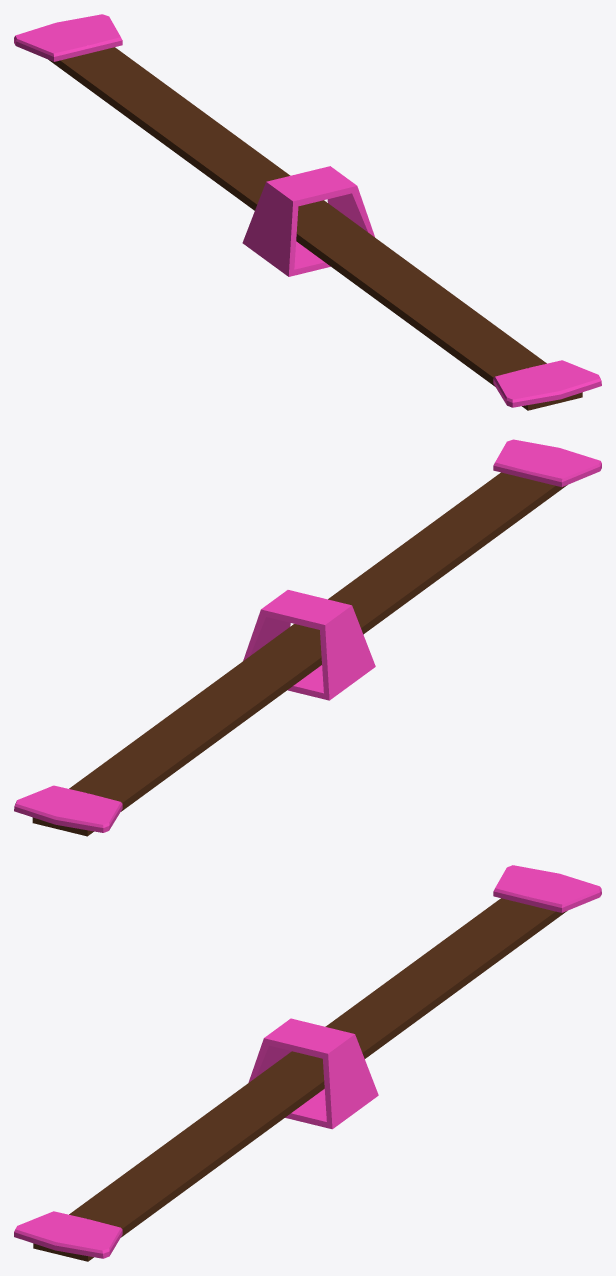
Rendered from MOD_BalancoirB.FBX.
3 views of the same model, one above another, from view 1: azimuth 30°, elevation 25°; view 2: azimuth 150°, elevation 25°; view 3: azimuth 330°, elevation 25° (orthographic).
Parts seen in each view (by area): view 1: Box002; view 2: Box002; view 3: Box002.
Boxes of the visible parts, bbox=[...] form: Box002: bbox=[14, 14, 601, 410]; Box002: bbox=[14, 439, 601, 836]; Box002: bbox=[14, 865, 601, 1261].
Size of the model in its own units: 0.4792 by 0.3115 by 4.39.
